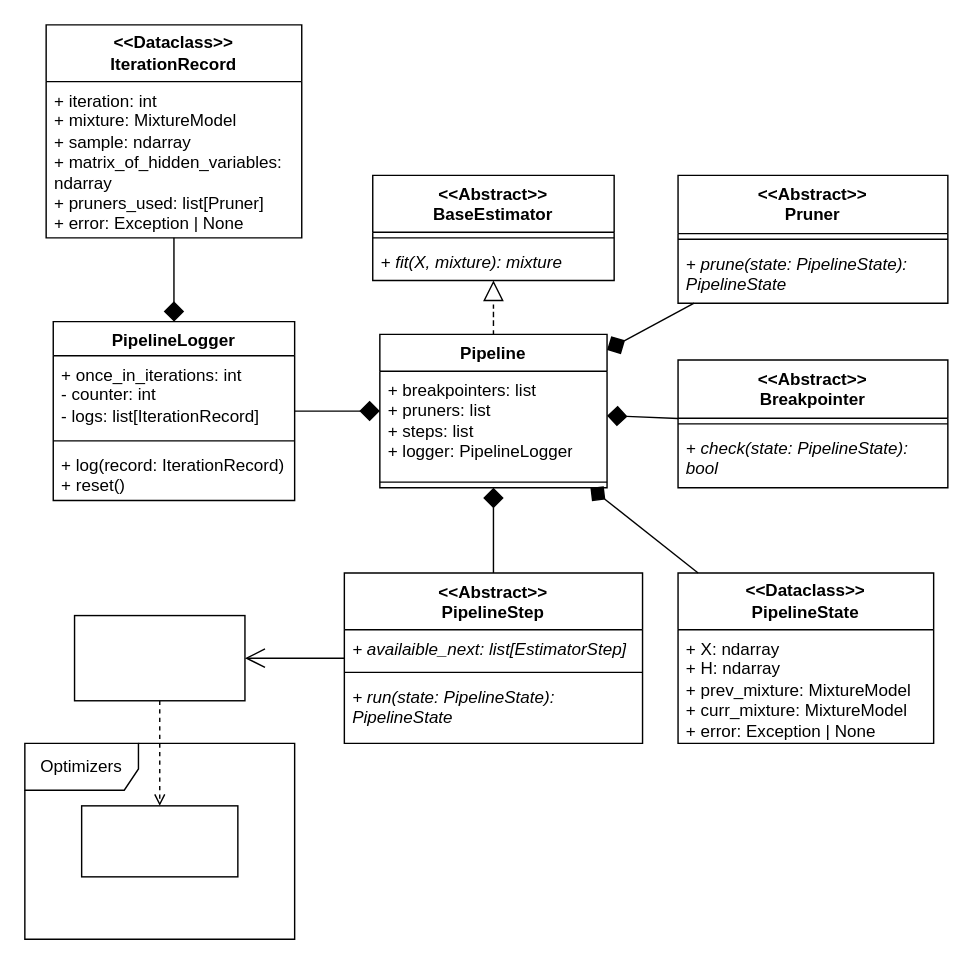
Some shapes in this 973 by 964 pixel diagram are drawn without their labels. The shapes that lost their labels are listed below. From the top down, each one's centre as x and y in pixels, then its label:
At (159,657): "Strategies".
At (159,840): "Optimizer".
